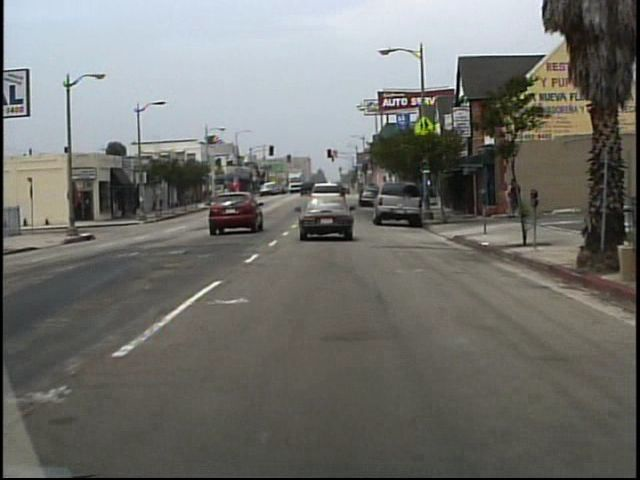person: (511, 177, 523, 217), (502, 182, 515, 218)
